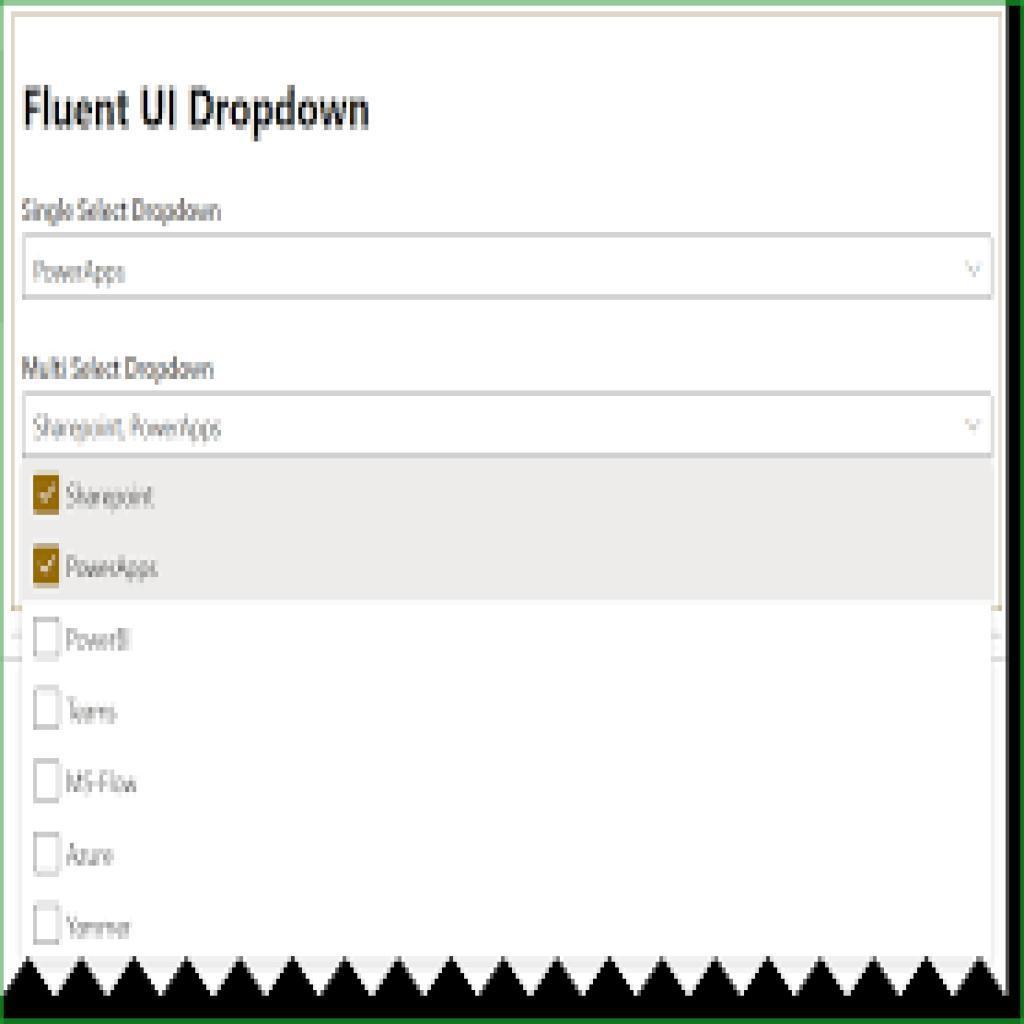checkbox: (33, 760, 66, 807), (33, 899, 64, 945), (34, 687, 64, 733), (33, 544, 61, 591), (36, 616, 62, 664), (34, 832, 61, 876), (33, 475, 61, 517), (68, 958, 70, 959)
dropdown: (25, 233, 993, 298), (23, 394, 993, 457)
label: (16, 352, 220, 386), (18, 196, 223, 229), (64, 549, 165, 585), (64, 477, 158, 514), (66, 765, 148, 804), (62, 625, 142, 663), (66, 912, 135, 947), (62, 838, 121, 873), (66, 694, 123, 730)
